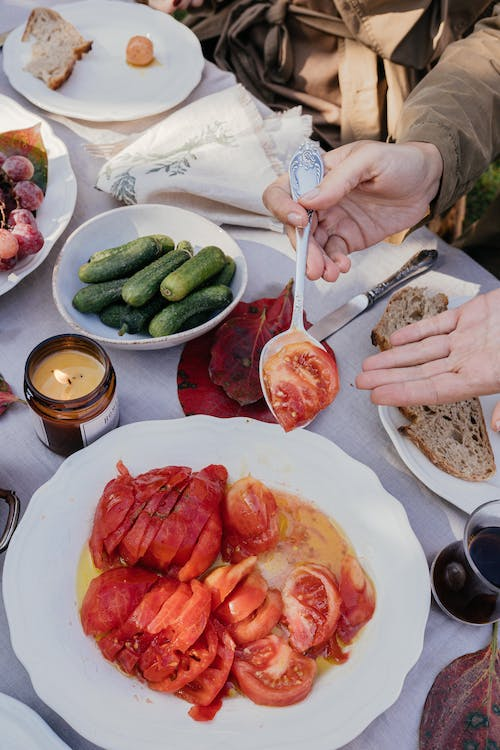knife: (303, 243, 447, 343)
